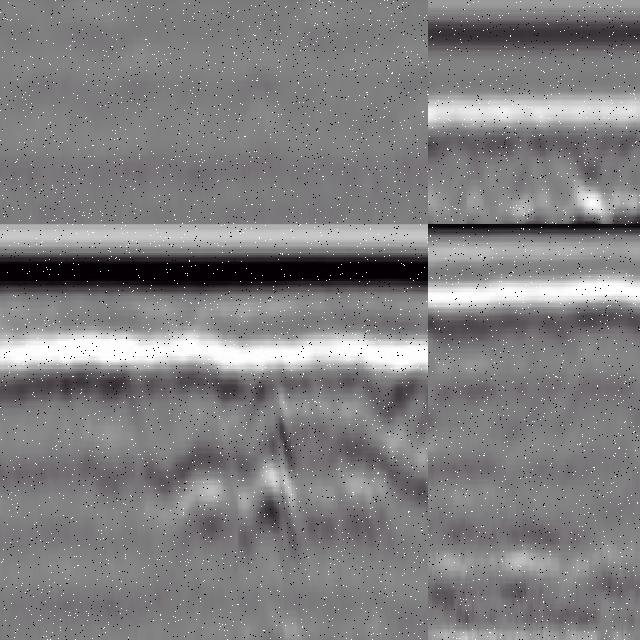loose: (157, 331, 429, 548), (429, 285, 508, 460)
